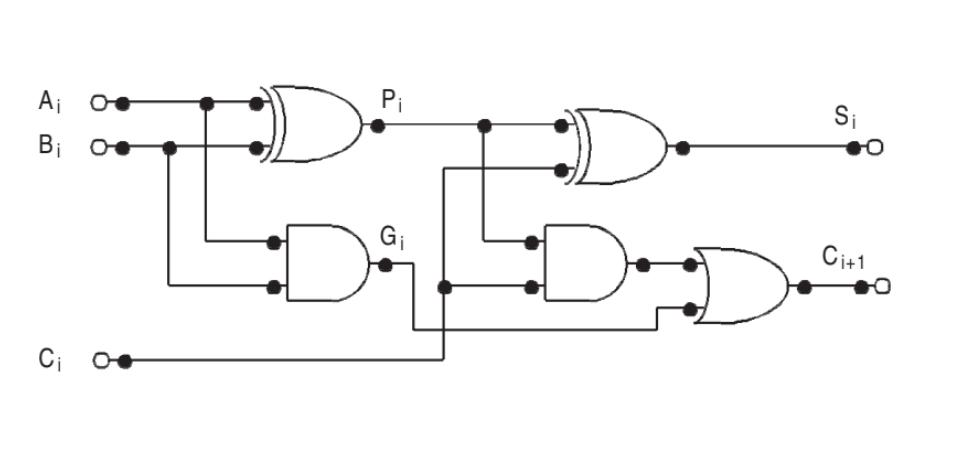and: (279, 214, 376, 314), (538, 219, 635, 308)
or: (695, 237, 797, 329)
xor: (257, 78, 368, 167), (563, 102, 674, 190)
